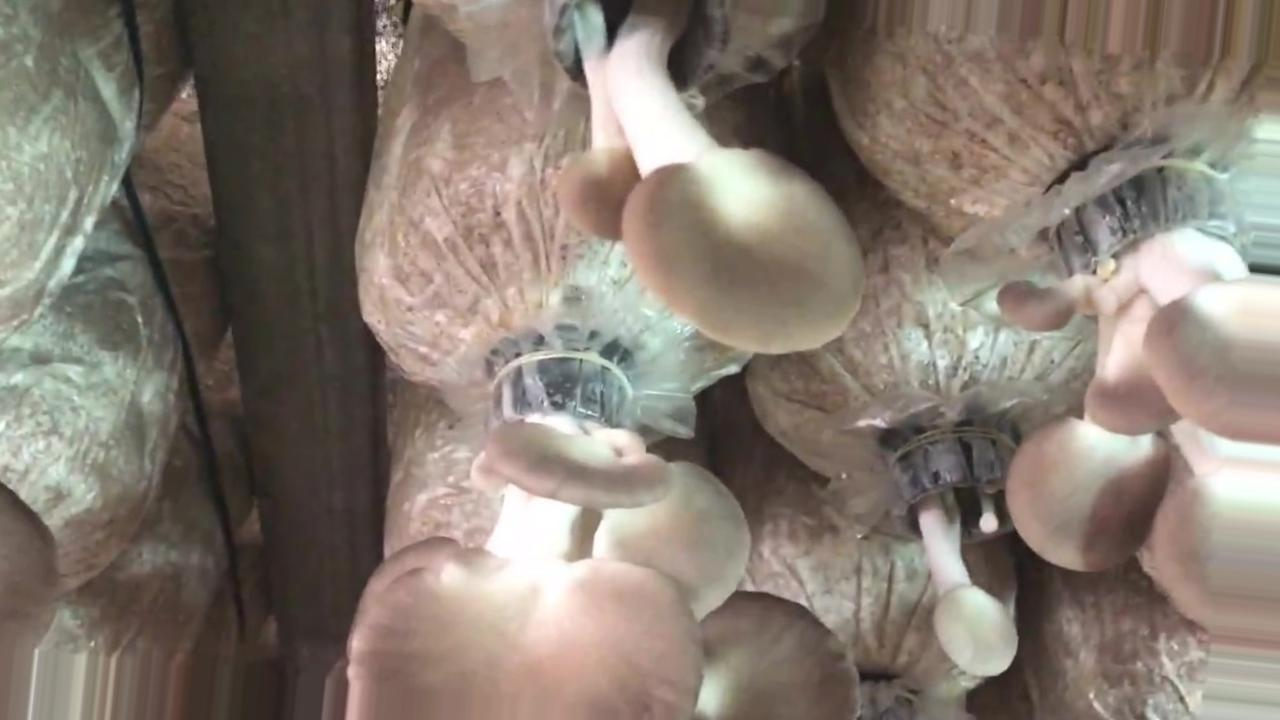nam: (352, 344, 860, 719), (998, 172, 1279, 632), (543, 1, 862, 354), (888, 434, 1020, 676), (1, 482, 52, 720)
